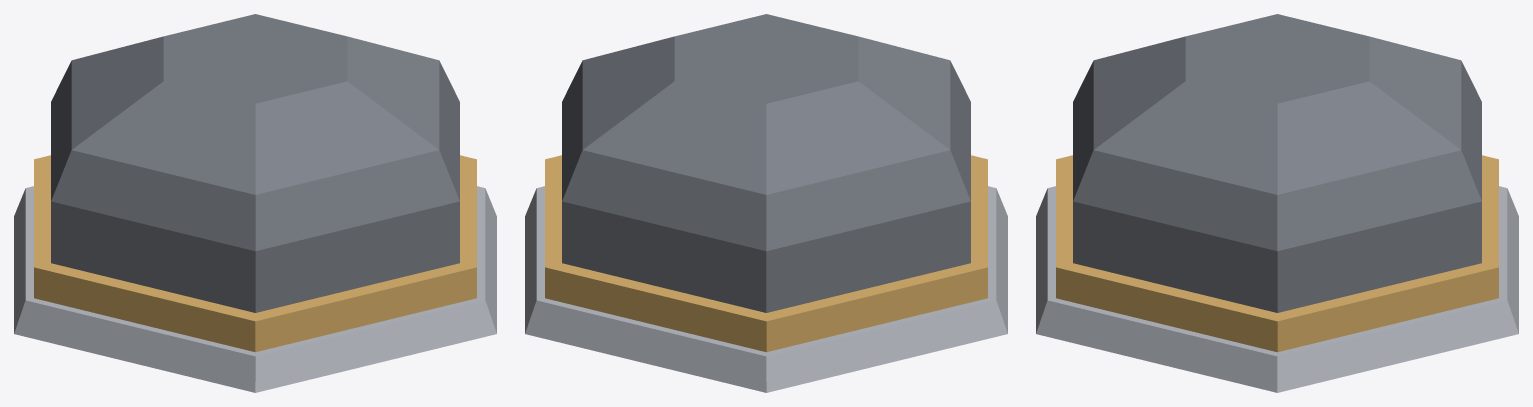
The model's file is hangar_roundGlass.glb.
The picture shows the model from 3 angles, left to right: view 1: azimuth 30°, elevation 25°; view 2: azimuth 150°, elevation 25°; view 3: azimuth 270°, elevation 25°; orthographic projection.
Visible parts, largest first — view 1: hangar_roundGlass; view 2: hangar_roundGlass; view 3: hangar_roundGlass.
Boxes of the visible parts, x1,y1,x2,y2 form: hangar_roundGlass: (14,14,496,392); hangar_roundGlass: (525,14,1007,392); hangar_roundGlass: (1036,14,1518,392).
Size of the model in its own units: 2.34 by 1 by 2.02.
